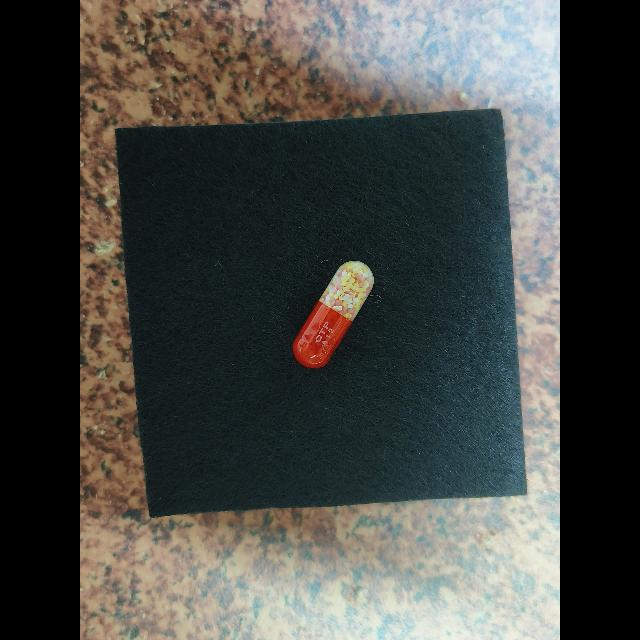Intact Capsule: (292, 261, 374, 368)
